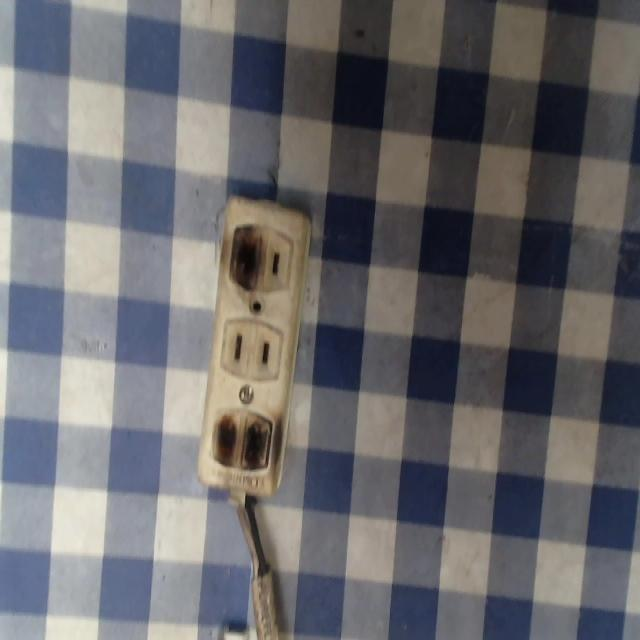-: (209, 403, 284, 481), (225, 216, 271, 293)
